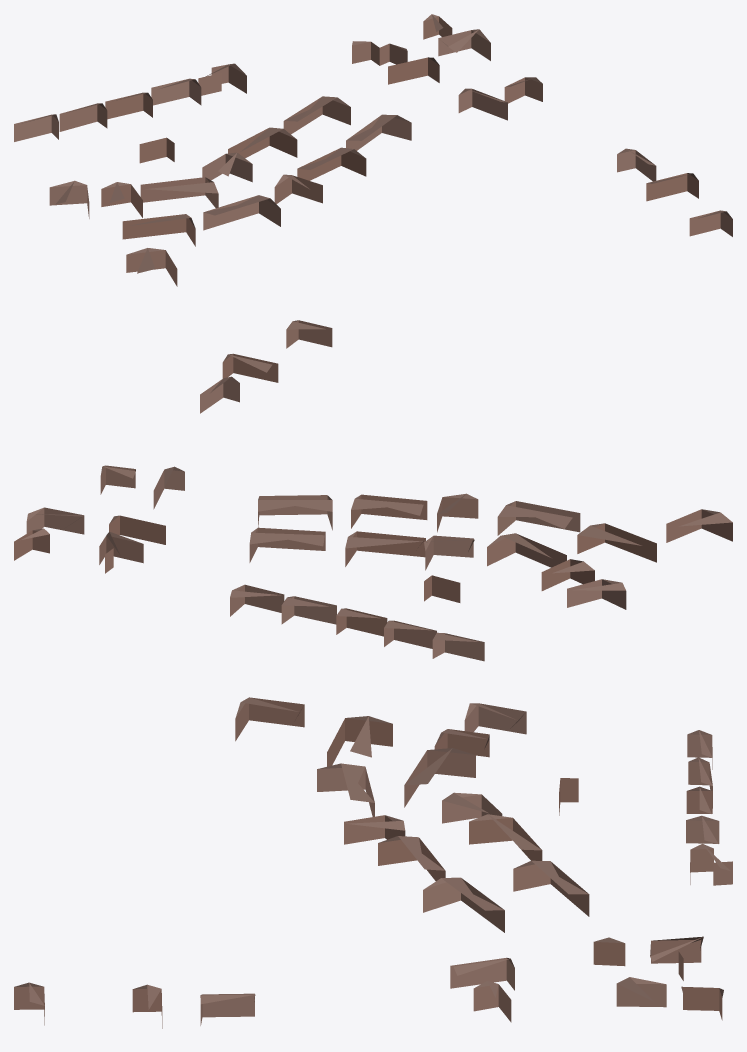
File: c_1644_17835_buildings_residential.glb
3 views of the same model, one above another, from view 1: azimuth 30°, elevation 25°; view 2: azimuth 150°, elevation 25°; view 3: azimuth 270°, elevation 25° (orthographic). The views are drawn at different scales.
Parts seen in each view (by area): view 1: geometry_0; view 2: geometry_0; view 3: geometry_0.
Boxes of the visible parts, left/top/right/bottom form: geometry_0: left=14, top=14, right=732, bottom=286; geometry_0: left=14, top=320, right=732, bottom=661; geometry_0: left=14, top=697, right=732, bottom=1028.
Size of the model in its own units: 267 by 10.68 by 255.
